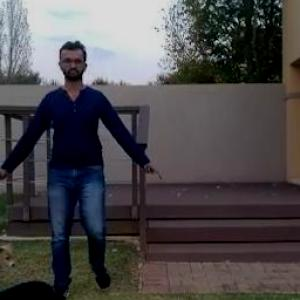land: (12, 54, 149, 291)
